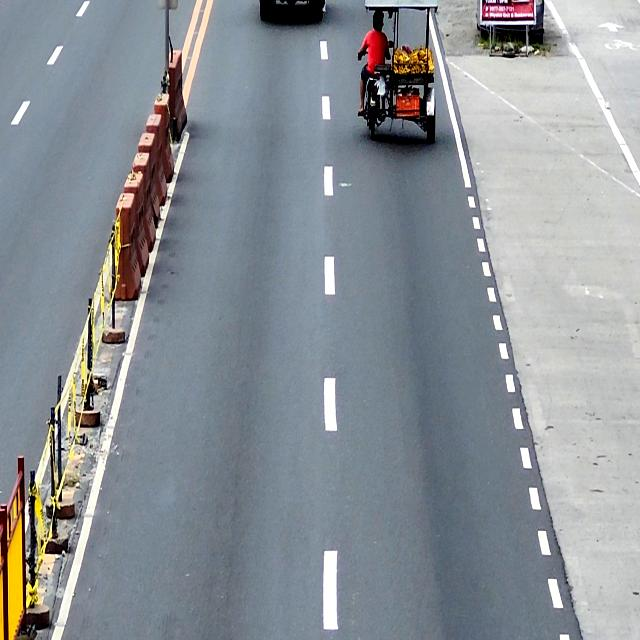Tricycle: (362, 0, 438, 144)
